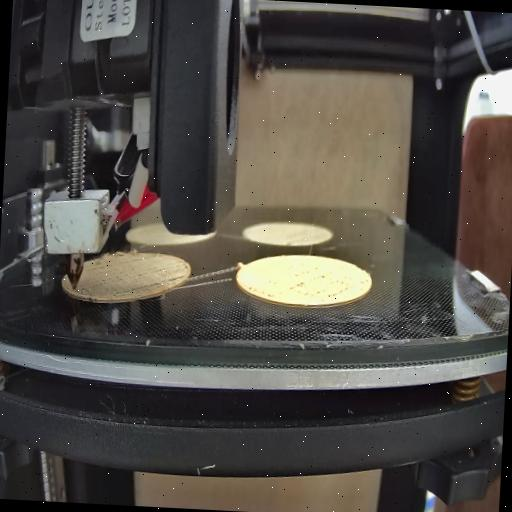under_extrusion: (290, 264, 370, 304), (117, 258, 188, 300), (246, 272, 276, 300), (71, 282, 101, 302)
